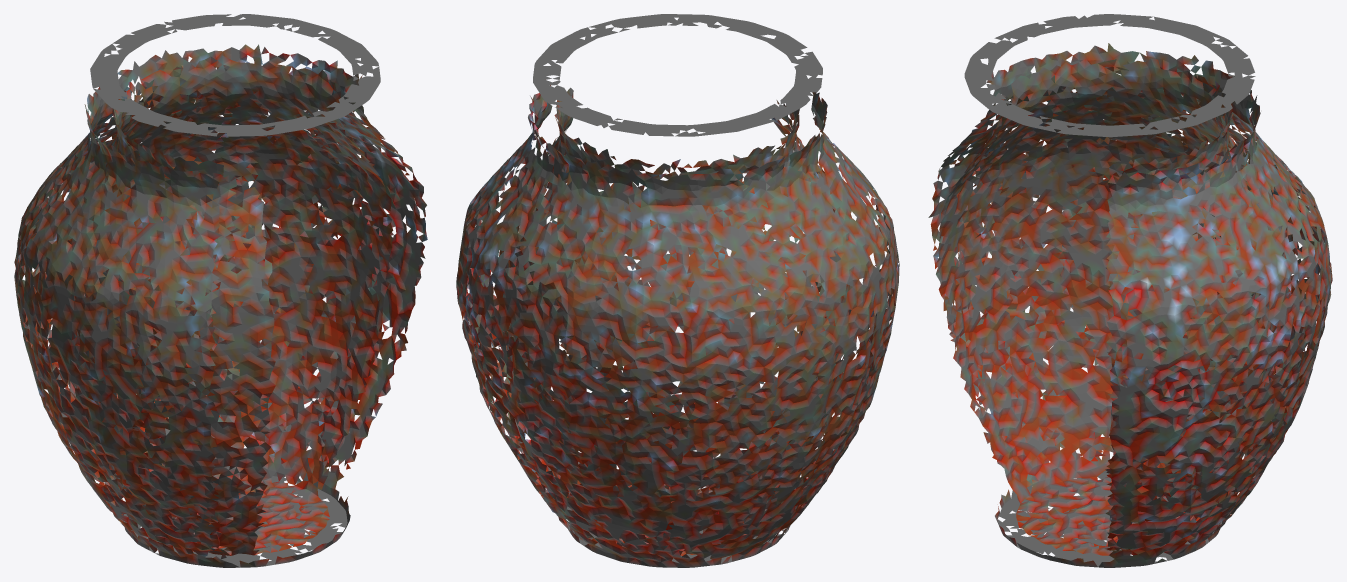
File: vase_final200.obj
3 views of the same model, side by side, from view 1: azimuth 30°, elevation 25°; view 2: azimuth 150°, elevation 25°; view 3: azimuth 270°, elevation 25° (orthographic).
Size of the model in its own units: 1.53 by 1.69 by 1.39.
